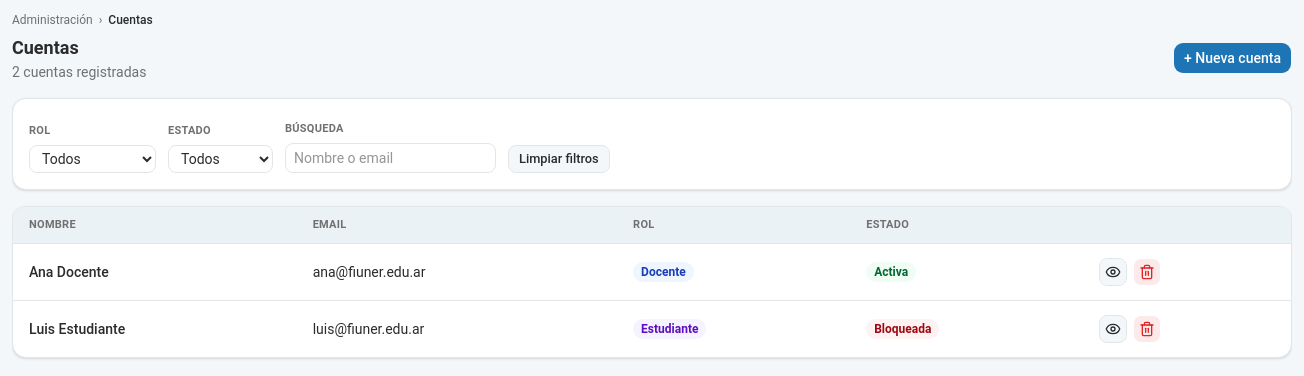
Test: Cuentas › 'Limpiar filtros' vuelve al listado sin filtros
expect the text "Ana Docente" is shown: met, box [13,243,297,300]
Select "Estudiante" in the dropdown labelled "Rol" at (92, 159), box [29,145,156,173]
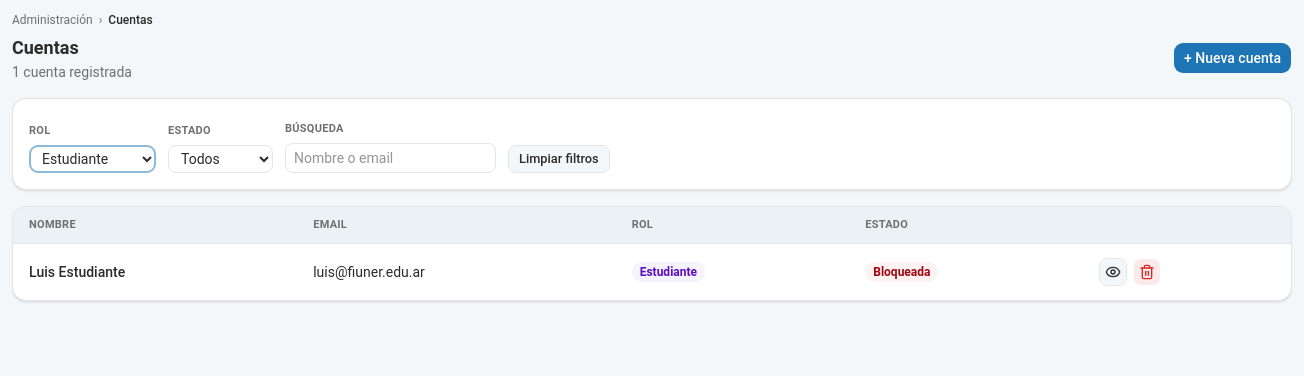
expect the text "Luis Estudiante" is shown: met, box [13,243,297,300]
Click the button "Limpiar filtros" at (559, 159), box [508,145,610,173]
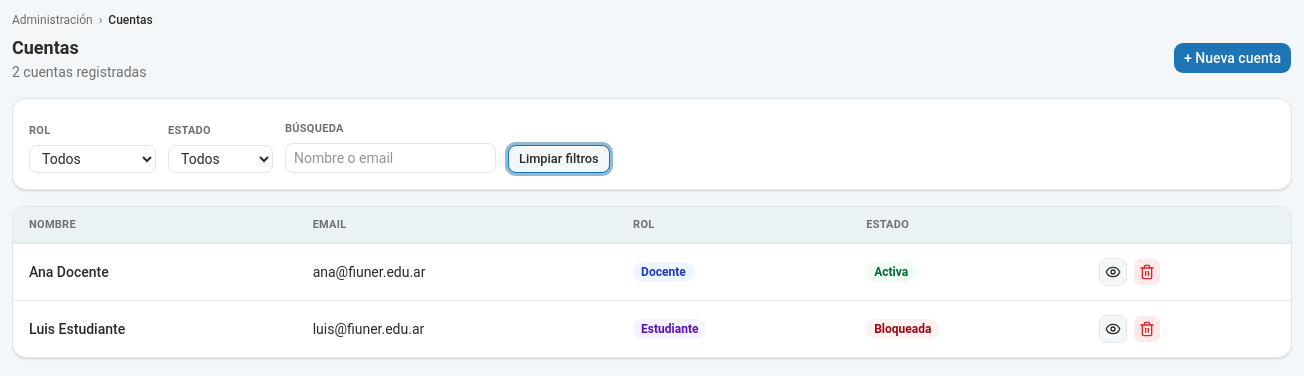
expect the text "Ana Docente" is shown: met, box [13,243,297,300]
